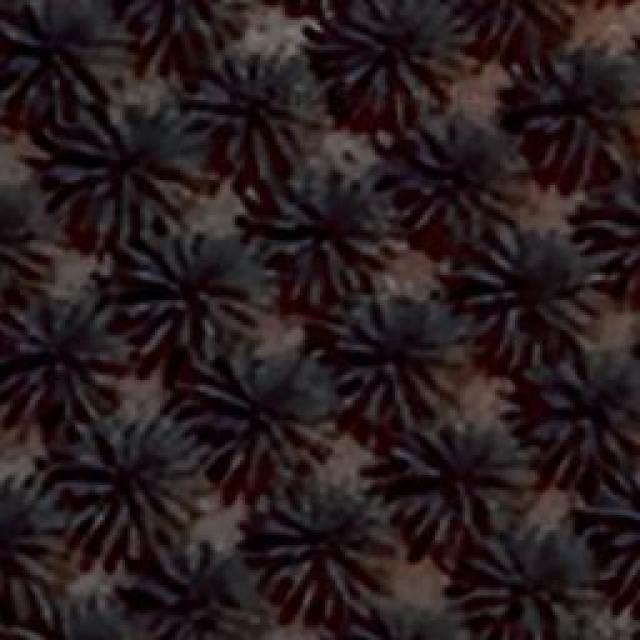PalmTree: (110, 20, 523, 111), (29, 111, 110, 556), (54, 412, 208, 560), (48, 90, 208, 228), (455, 225, 600, 365), (120, 220, 270, 352), (382, 415, 536, 543), (250, 480, 395, 615), (255, 160, 390, 302), (310, 0, 480, 110), (188, 44, 322, 178), (328, 288, 462, 422), (510, 40, 622, 175), (5, 295, 120, 423), (398, 113, 520, 230), (530, 350, 638, 480), (2, 2, 130, 100), (206, 358, 322, 464), (448, 530, 560, 635), (581, 167, 640, 300), (156, 565, 259, 640), (2, 594, 142, 640), (593, 464, 640, 598), (130, 0, 242, 55), (0, 183, 50, 304), (334, 600, 466, 640)
